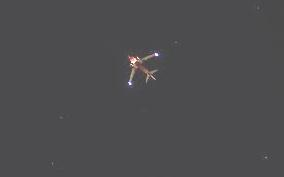Plane: (118, 49, 175, 87)
